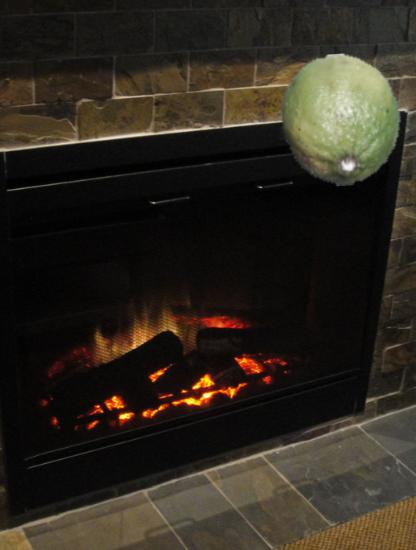Limes: (273, 54, 405, 186)
